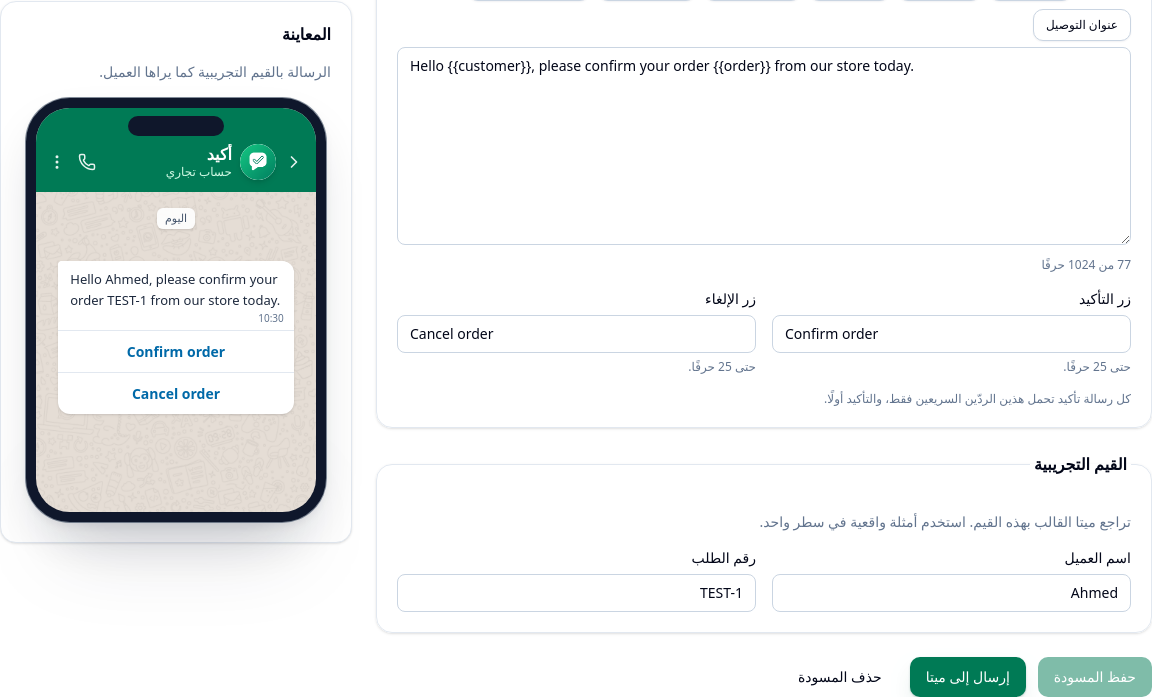
Test: TemplateDraftEditorPage › confirms a submit by stating review time, category risk and the environment, in ar
The image size is (1152, 697).
(page scrolled)
Click the button "إرسال إلى ميتا": {"x": 968, "y": 677} [910, 657, 1026, 696]
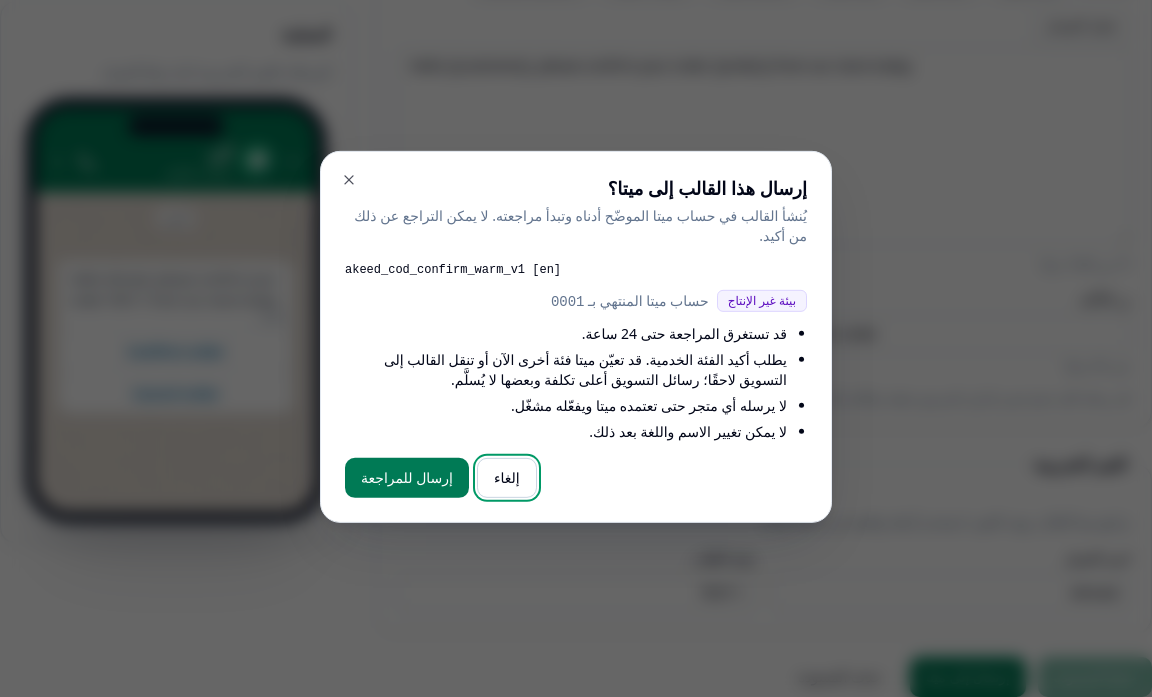
Now the list item "قد تستغرق المراجعة حتى 24 ساعة." is shown, box [582, 324, 787, 343]
Now the list item "قد تعيّن ميتا فئة أخرى الآن أو تنقل القالب إلى التسويق لاحقًا" is shown, box [384, 350, 787, 389]
Now the text "بيئة غير الإنتاج" is shown, box [717, 290, 807, 312]
Click the button "إرسال للمراجعة": {"x": 407, "y": 478} [345, 458, 469, 498]
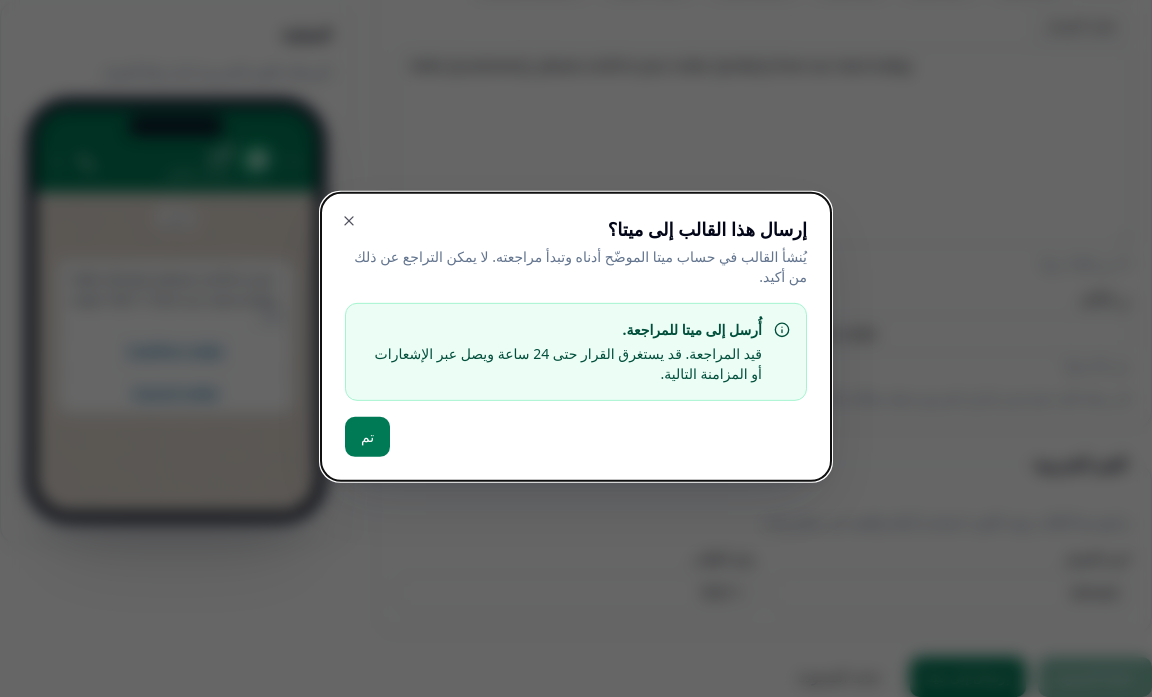
Now the text "أُرسل إلى ميتا للمراجعة." is shown, box [622, 320, 762, 339]
